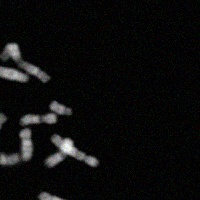chromosome: (0, 42, 51, 81), (50, 134, 98, 165), (45, 137, 70, 167), (19, 112, 57, 126), (18, 128, 33, 159), (0, 66, 28, 81), (51, 102, 72, 116), (0, 151, 19, 166), (39, 192, 72, 200), (0, 104, 6, 129)
